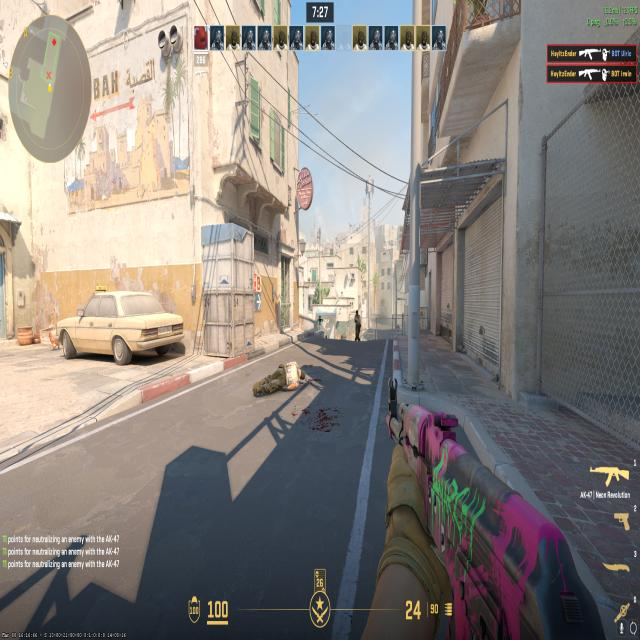t: (352, 307, 363, 343)
